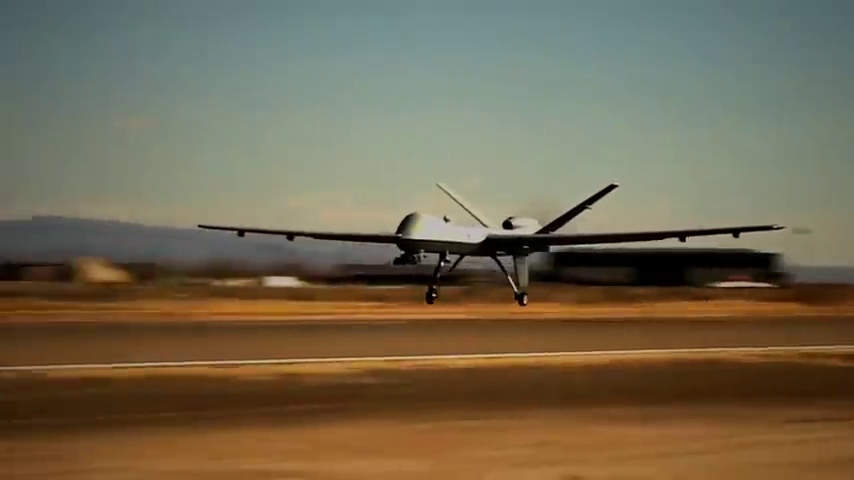military drone: (196, 181, 786, 305)
